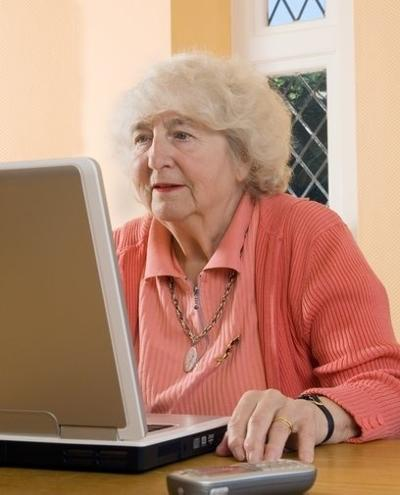person: (107, 55, 400, 471)
